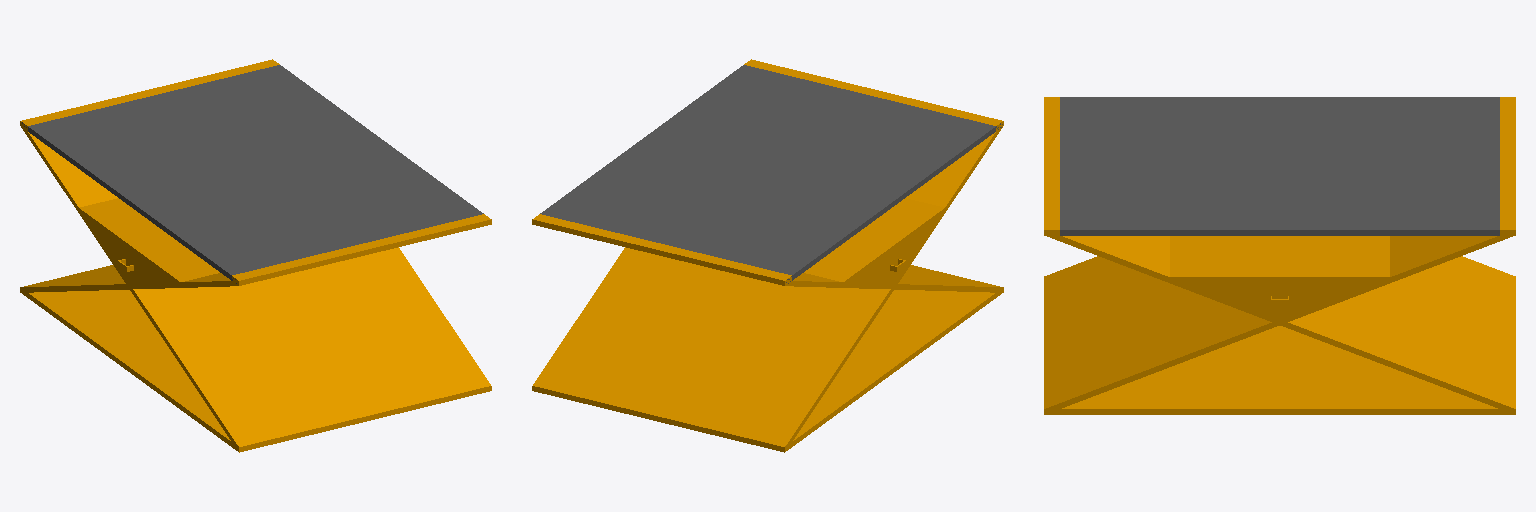
robot.urdf — table_model:
<robot name="table_model">
  <link name="table">
    <inertial>
      <mass value="1.0" />
      <inertia  ixx="1.0" ixy="0.0"  ixz="0.0"  iyy="100.0"  iyz="0.0"  izz="1.0" />
    </inertial>
    <visual>
      <geometry>
        <mesh filename="package://models_pkg/models/living_room/table.dae" scale="1 1 1"/>
      </geometry> 
    </visual>
    <collision>
      <geometry>
        <mesh filename="package://models_pkg/models/living_room/table.dae" scale="1 1 1"/>
      </geometry>
    </collision>
  </link> 
</robot>

--- Facts derived from the render (not from the file) ---
Views: 3 orthographic renders of the robot side by side, from view 1: azimuth 30°, elevation 25°; view 2: azimuth 150°, elevation 25°; view 3: azimuth 270°, elevation 25°.
Robot: table_model — 1 links, 0 joints (none); root link table; default pose: every joint at zero.
Visible links, largest first — view 1: table; view 2: table; view 3: table.
Link boxes in pixels (x1,y1,x2,y2): table: (20, 59, 491, 452); table: (532, 59, 1003, 452); table: (1044, 97, 1515, 414).
Bounding box of the posed robot: 1.06 × 1.5 × 0.65 m (x, y, z).
Meshes: 1 distinct files referenced, 1 mesh visuals loaded (1 Collada DAE).